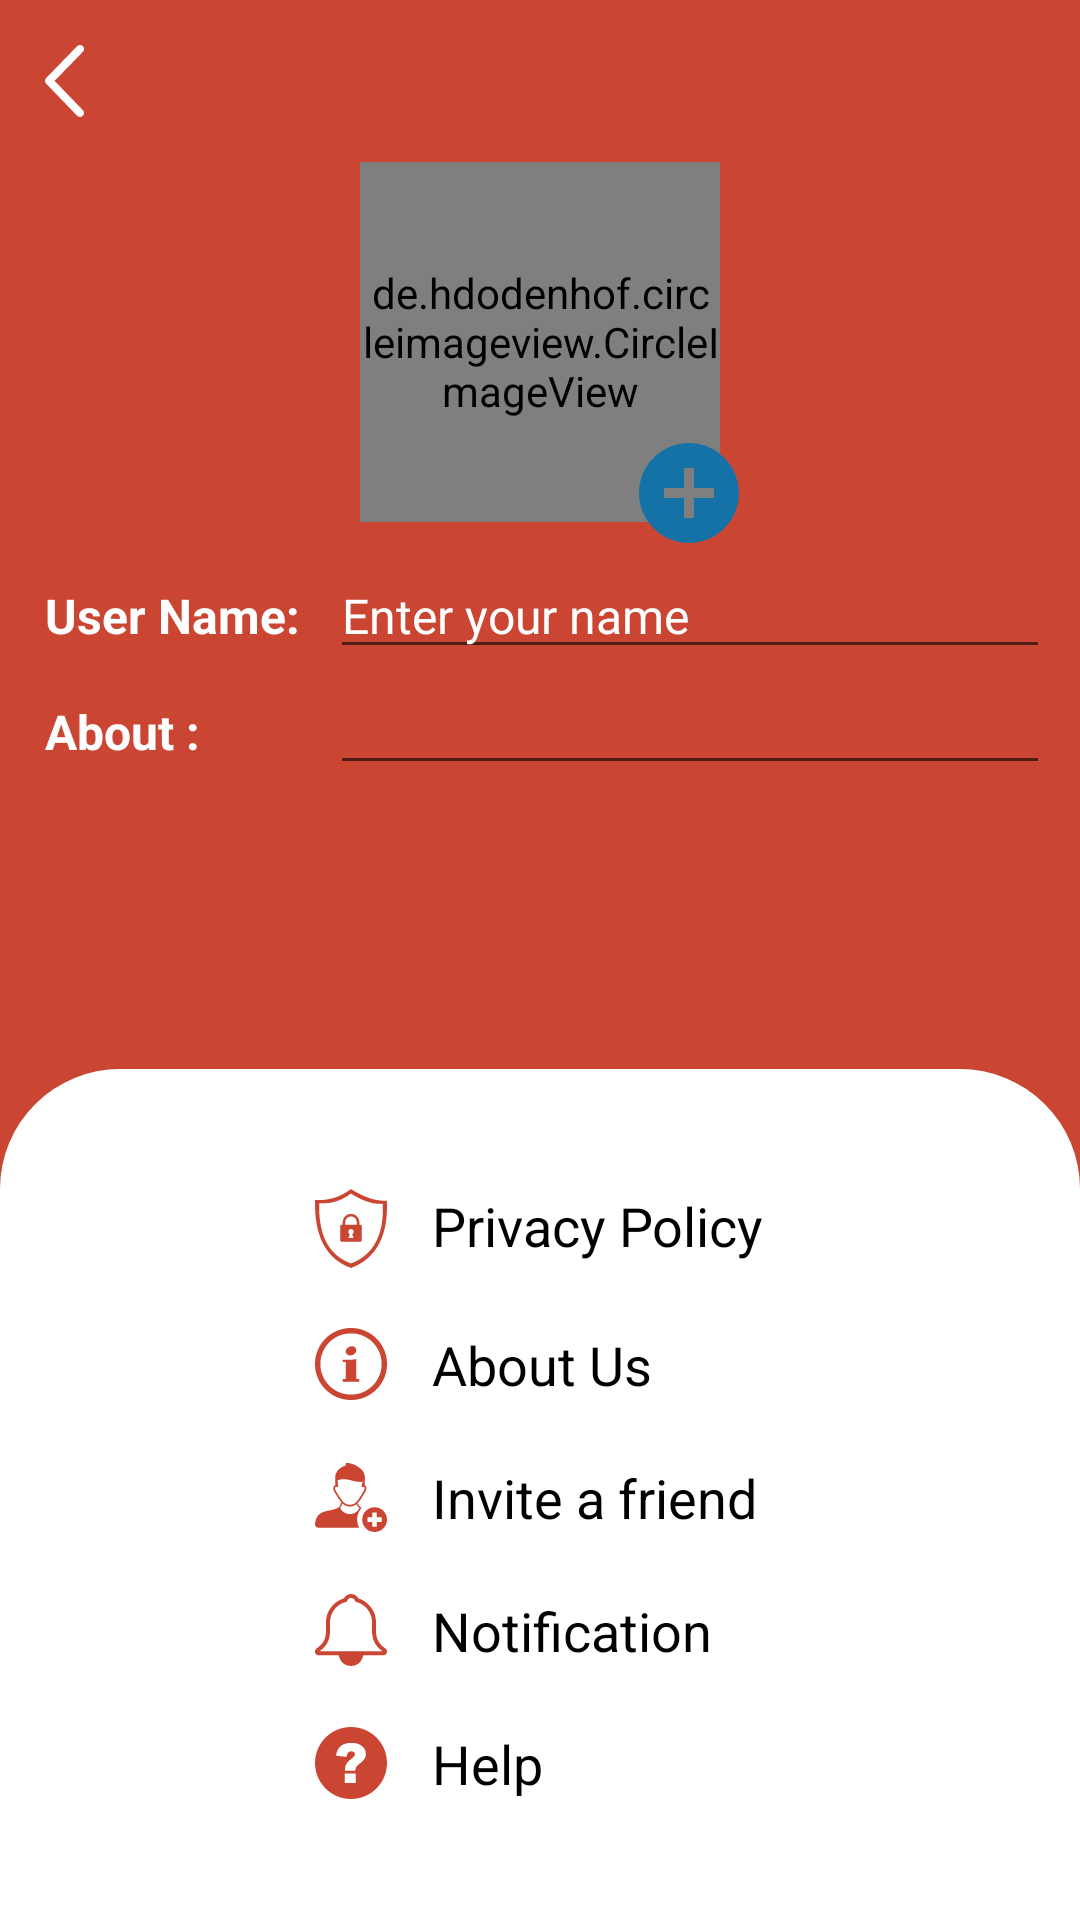

Locate icon controls on the screen. Image size 1080×1920, boxes as [left=x1, top=y1, right=x2, bottom=y2].
add circle: [left=629, top=433, right=739, bottom=543]
line angle left: [left=45, top=45, right=84, bottom=117]
